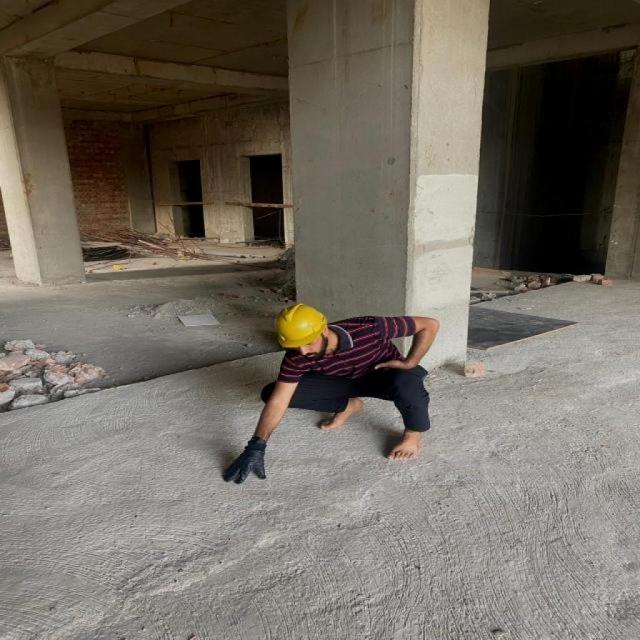Gloves-Detection: (215, 434, 277, 494)
